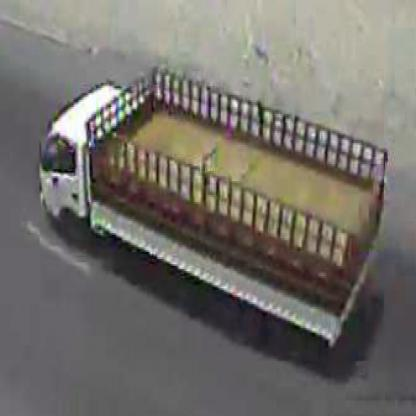truck: (41, 69, 386, 364)
